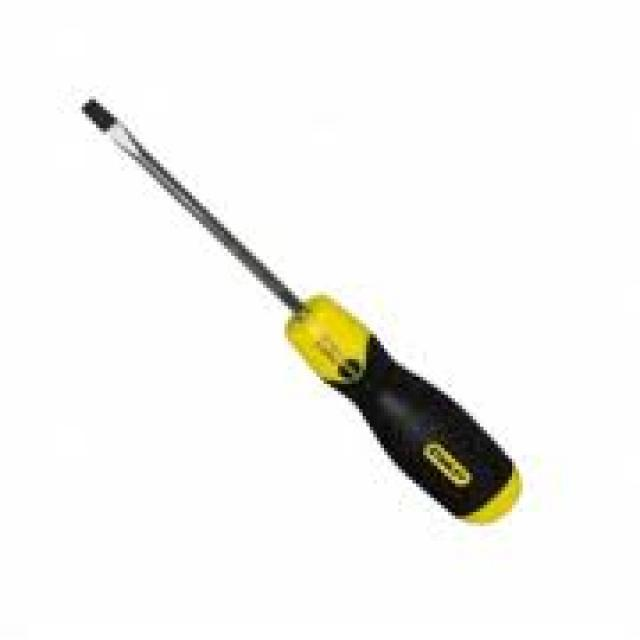screwdriver: (78, 92, 526, 526)
